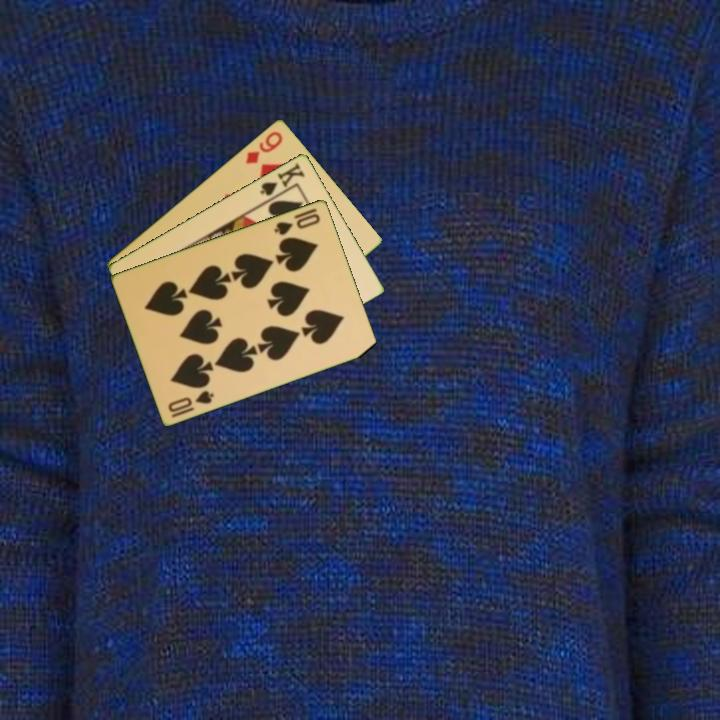10s: (165, 386, 217, 420), (271, 210, 323, 238)
9d: (242, 127, 286, 167)
Ks: (256, 159, 308, 204)
